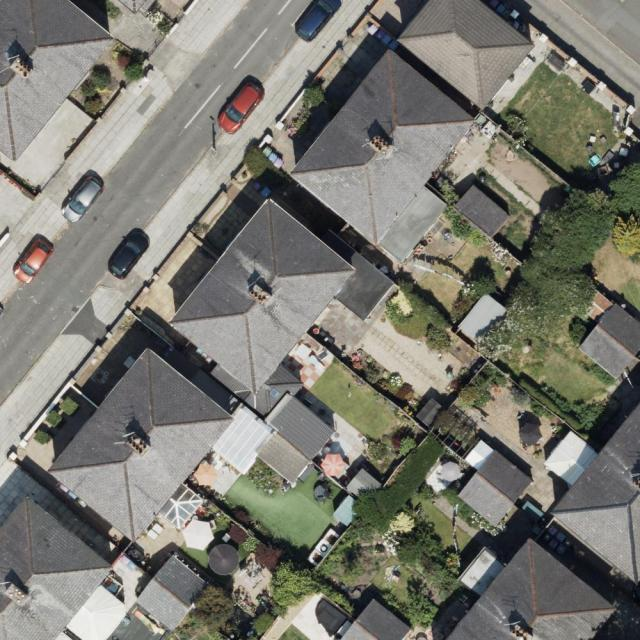roof: (47, 199, 393, 543), (289, 47, 474, 268), (0, 0, 120, 164), (0, 492, 132, 640), (443, 537, 618, 640), (542, 403, 640, 585), (395, 0, 537, 112), (135, 552, 212, 631), (456, 449, 531, 529), (574, 303, 640, 384), (339, 597, 411, 640), (116, 0, 148, 15)
skylight: (266, 385, 282, 402)
